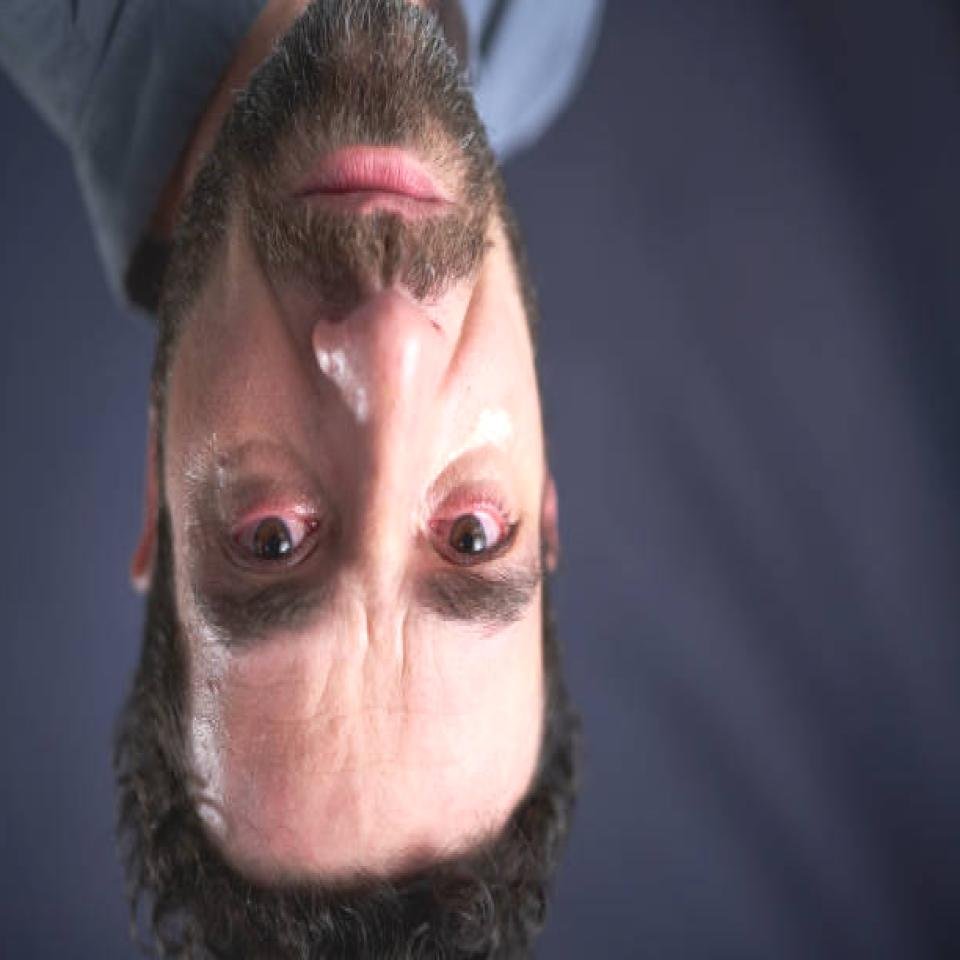Sadness: (134, 5, 558, 874)
